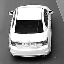mobil: (7, 4, 52, 58)
